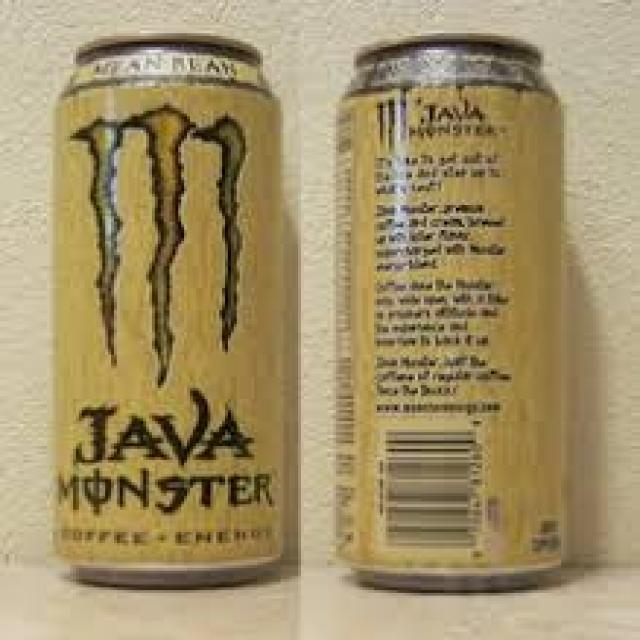Cans: (43, 18, 318, 592)
